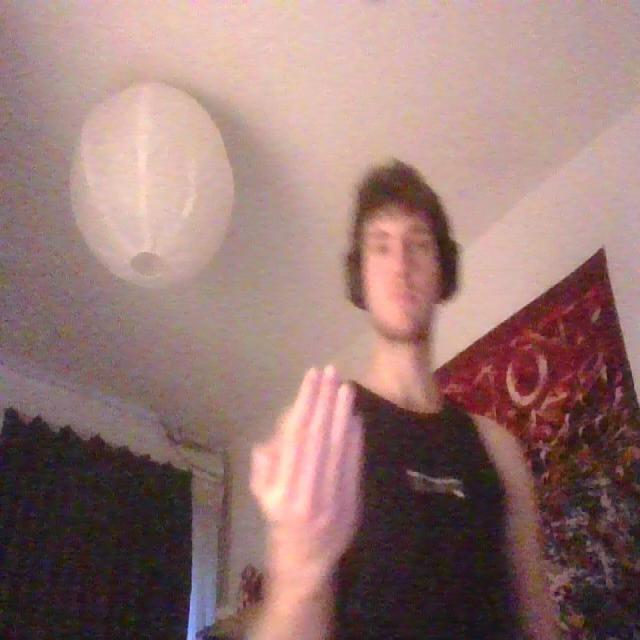forward: (242, 358, 370, 580)
